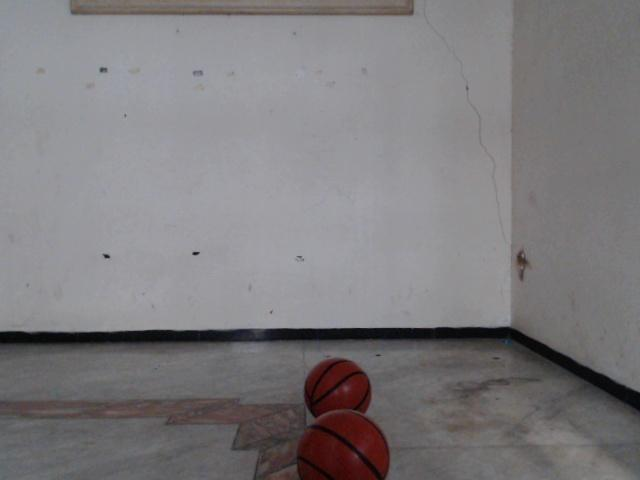Sports-Ball: (284, 413, 399, 480), (298, 358, 379, 421)
